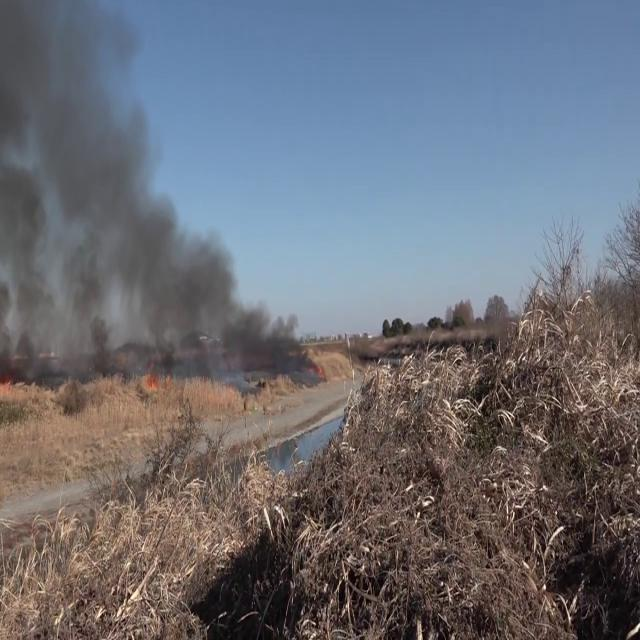Smoke: (0, 1, 138, 376), (124, 194, 318, 381)
